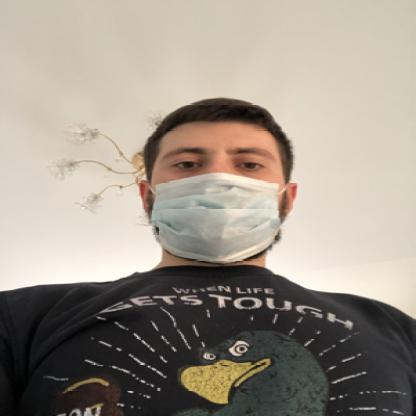with_mask: (150, 138, 284, 262)
